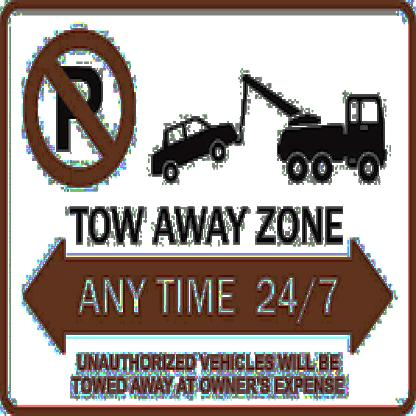No parking: (25, 22, 136, 184)
